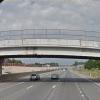Bridge: (4, 22, 96, 65)
